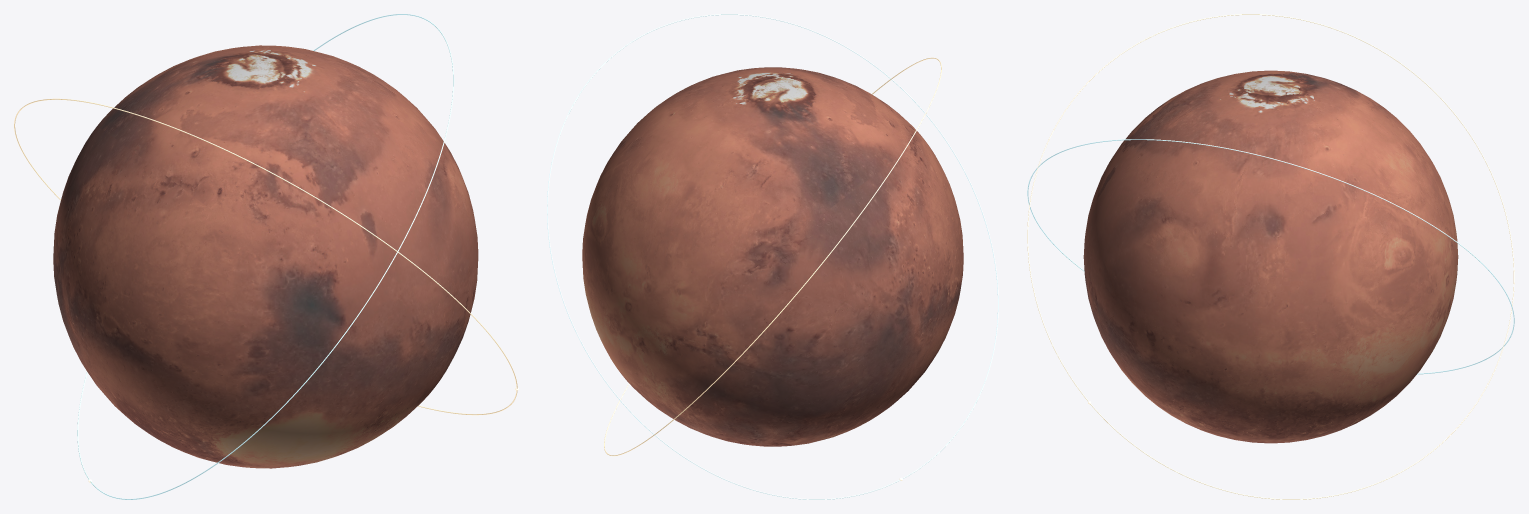
File: mars-natural-orbits.glb
3 views of the same model, side by side, from view 1: azimuth 30°, elevation 25°; view 2: azimuth 150°, elevation 25°; view 3: azimuth 270°, elevation 25° (orthographic). The views are drawn at different scales.
Visible parts, largest first — view 1: Cube.008, Dust_blue, Warm_gold; view 2: Cube.008, Dust_blue, Warm_gold; view 3: Cube.008, Warm_gold, Dust_blue.
Boxes of the visible parts, <box> form: Cube.008: <box>53,45,478,468</box>; Dust_blue: <box>77,14,454,499</box>; Warm_gold: <box>14,98,517,415</box>; Cube.008: <box>582,67,963,446</box>; Dust_blue: <box>547,14,998,499</box>; Warm_gold: <box>604,57,941,456</box>; Cube.008: <box>1083,70,1458,443</box>; Warm_gold: <box>1027,14,1514,499</box>; Dust_blue: <box>1027,139,1514,374</box>.
Size of the model in its own units: 1000 by 1035 by 1301.
Materials: 5 (1 with a texture image).
